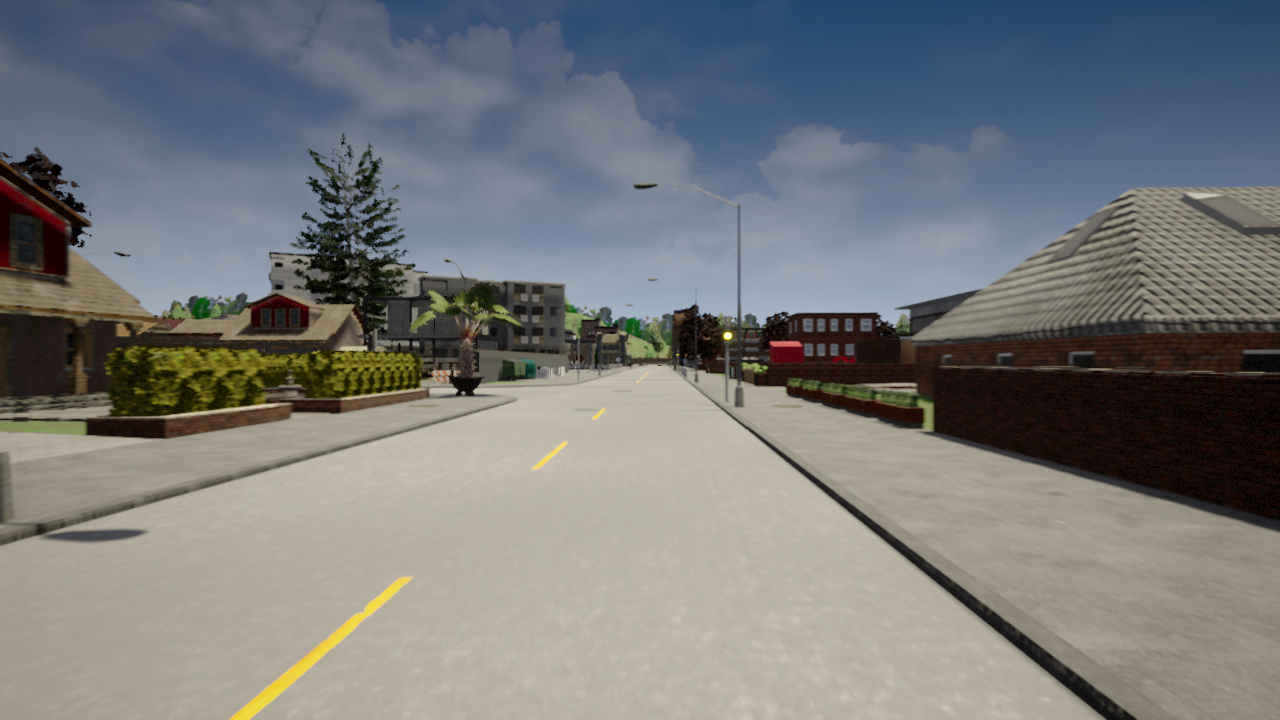yellow: (723, 323, 734, 352)
